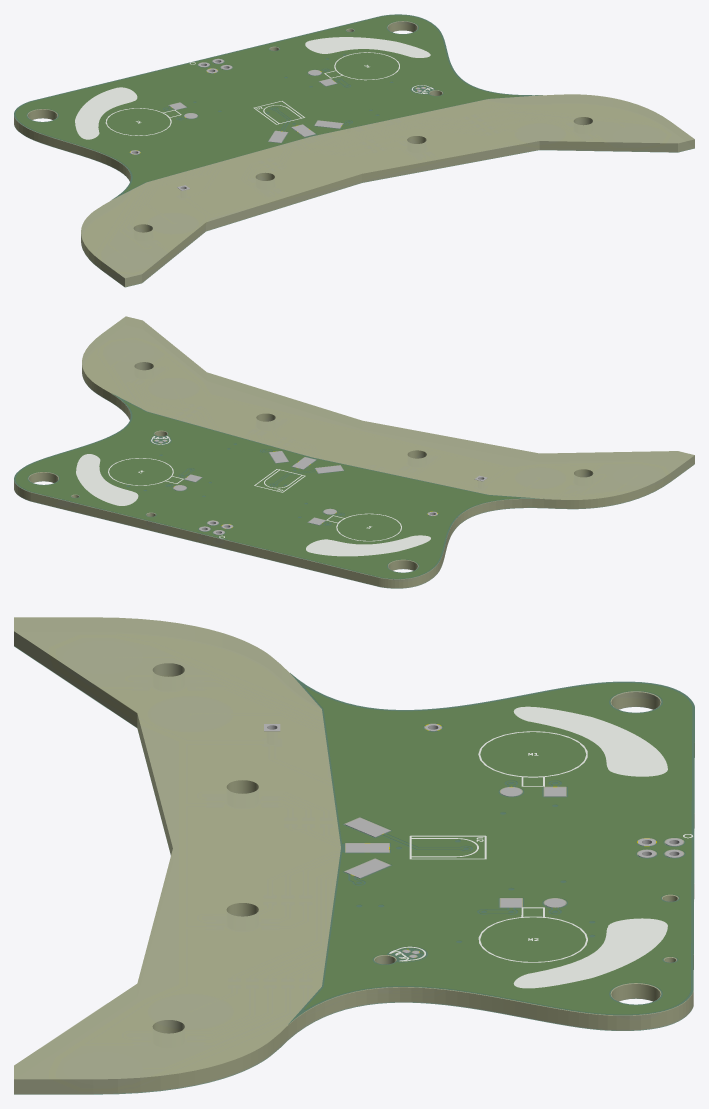
File: mr-stash.glb
The picture shows the model from 3 angles, top to bottom: view 1: azimuth 30°, elevation 25°; view 2: azimuth 150°, elevation 25°; view 3: azimuth 270°, elevation 25°; orthographic projection. The views are drawn at different scales.
Parts seen in each view (by area): view 1: =>[0:1:1:9], =>[0:1:1:7], =>[0:1:1:2], =>[0:1:1:5]; view 2: =>[0:1:1:9], =>[0:1:1:7], =>[0:1:1:2], =>[0:1:1:5]; view 3: =>[0:1:1:9], =>[0:1:1:7], =>[0:1:1:2], =>[0:1:1:5].
Boxes of the visible parts, box(x1,y1,x2,y2) form: =>[0:1:1:9]: box(14, 21, 694, 286); =>[0:1:1:7]: box(14, 14, 694, 287); =>[0:1:1:2]: box(16, 16, 515, 192); =>[0:1:1:5]: box(75, 37, 433, 184); =>[0:1:1:9]: box(14, 316, 694, 588); =>[0:1:1:7]: box(14, 379, 694, 588); =>[0:1:1:2]: box(16, 401, 512, 578); =>[0:1:1:5]: box(43, 436, 430, 583); =>[0:1:1:9]: box(14, 617, 694, 1094); =>[0:1:1:7]: box(14, 646, 694, 1094); =>[0:1:1:2]: box(264, 683, 691, 1013); =>[0:1:1:5]: box(389, 706, 694, 988).
Size of the model in its own units: 0.1013 by 0.00166 by 0.0631.
4 materials, 4 textured.
